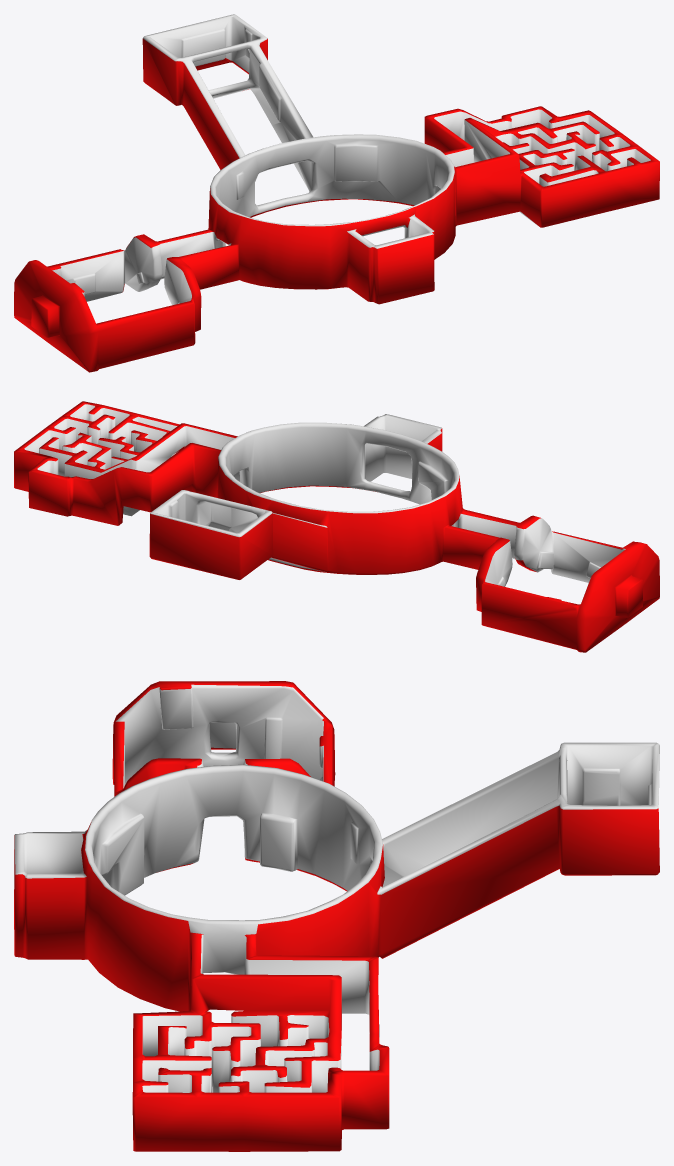
File: LowPoly_Mur.fbx
3 renders of one model, top to bottom at view 1: azimuth 30°, elevation 25°; view 2: azimuth 150°, elevation 25°; view 3: azimuth 270°, elevation 25°, orthographic. The views are drawn at different scales.
Parts seen in each view (by area): view 1: LowPoly_Mur_V2; view 2: LowPoly_Mur_V2; view 3: LowPoly_Mur_V2.
Part boxes in pixels (bbox=[...]): LowPoly_Mur_V2: bbox=[14, 14, 659, 372]; LowPoly_Mur_V2: bbox=[14, 401, 659, 652]; LowPoly_Mur_V2: bbox=[14, 681, 659, 1151].
Size of the model in its own units: 22328 by 5149 by 14413.
